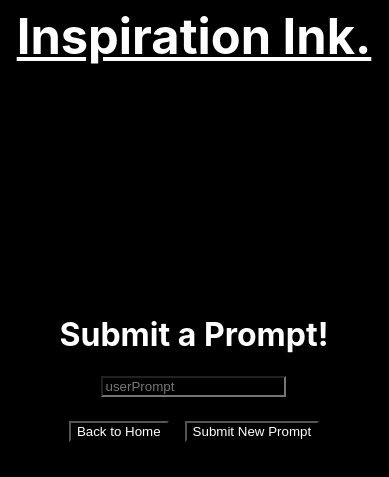
it: Home Page › should fail if there is nothing to submit
Click the button "Submit New Prompt" at (253, 432), box left=185, top=421, right=320, bottom=442
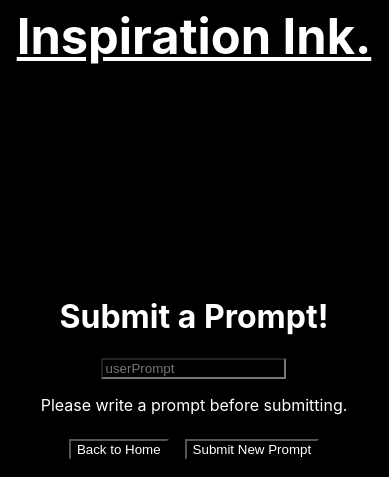
Expected: the text "Please write a prompt before submitting." is shown, left=41, top=395, right=347, bottom=415
